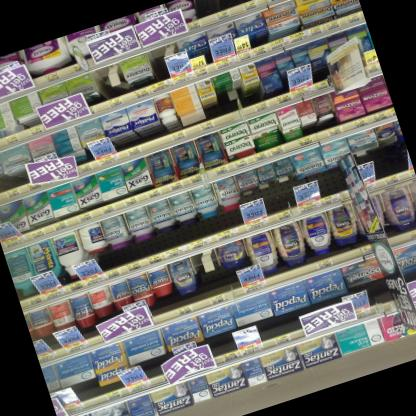empty_space: (146, 41, 186, 82), (92, 62, 129, 101), (193, 0, 224, 18)
